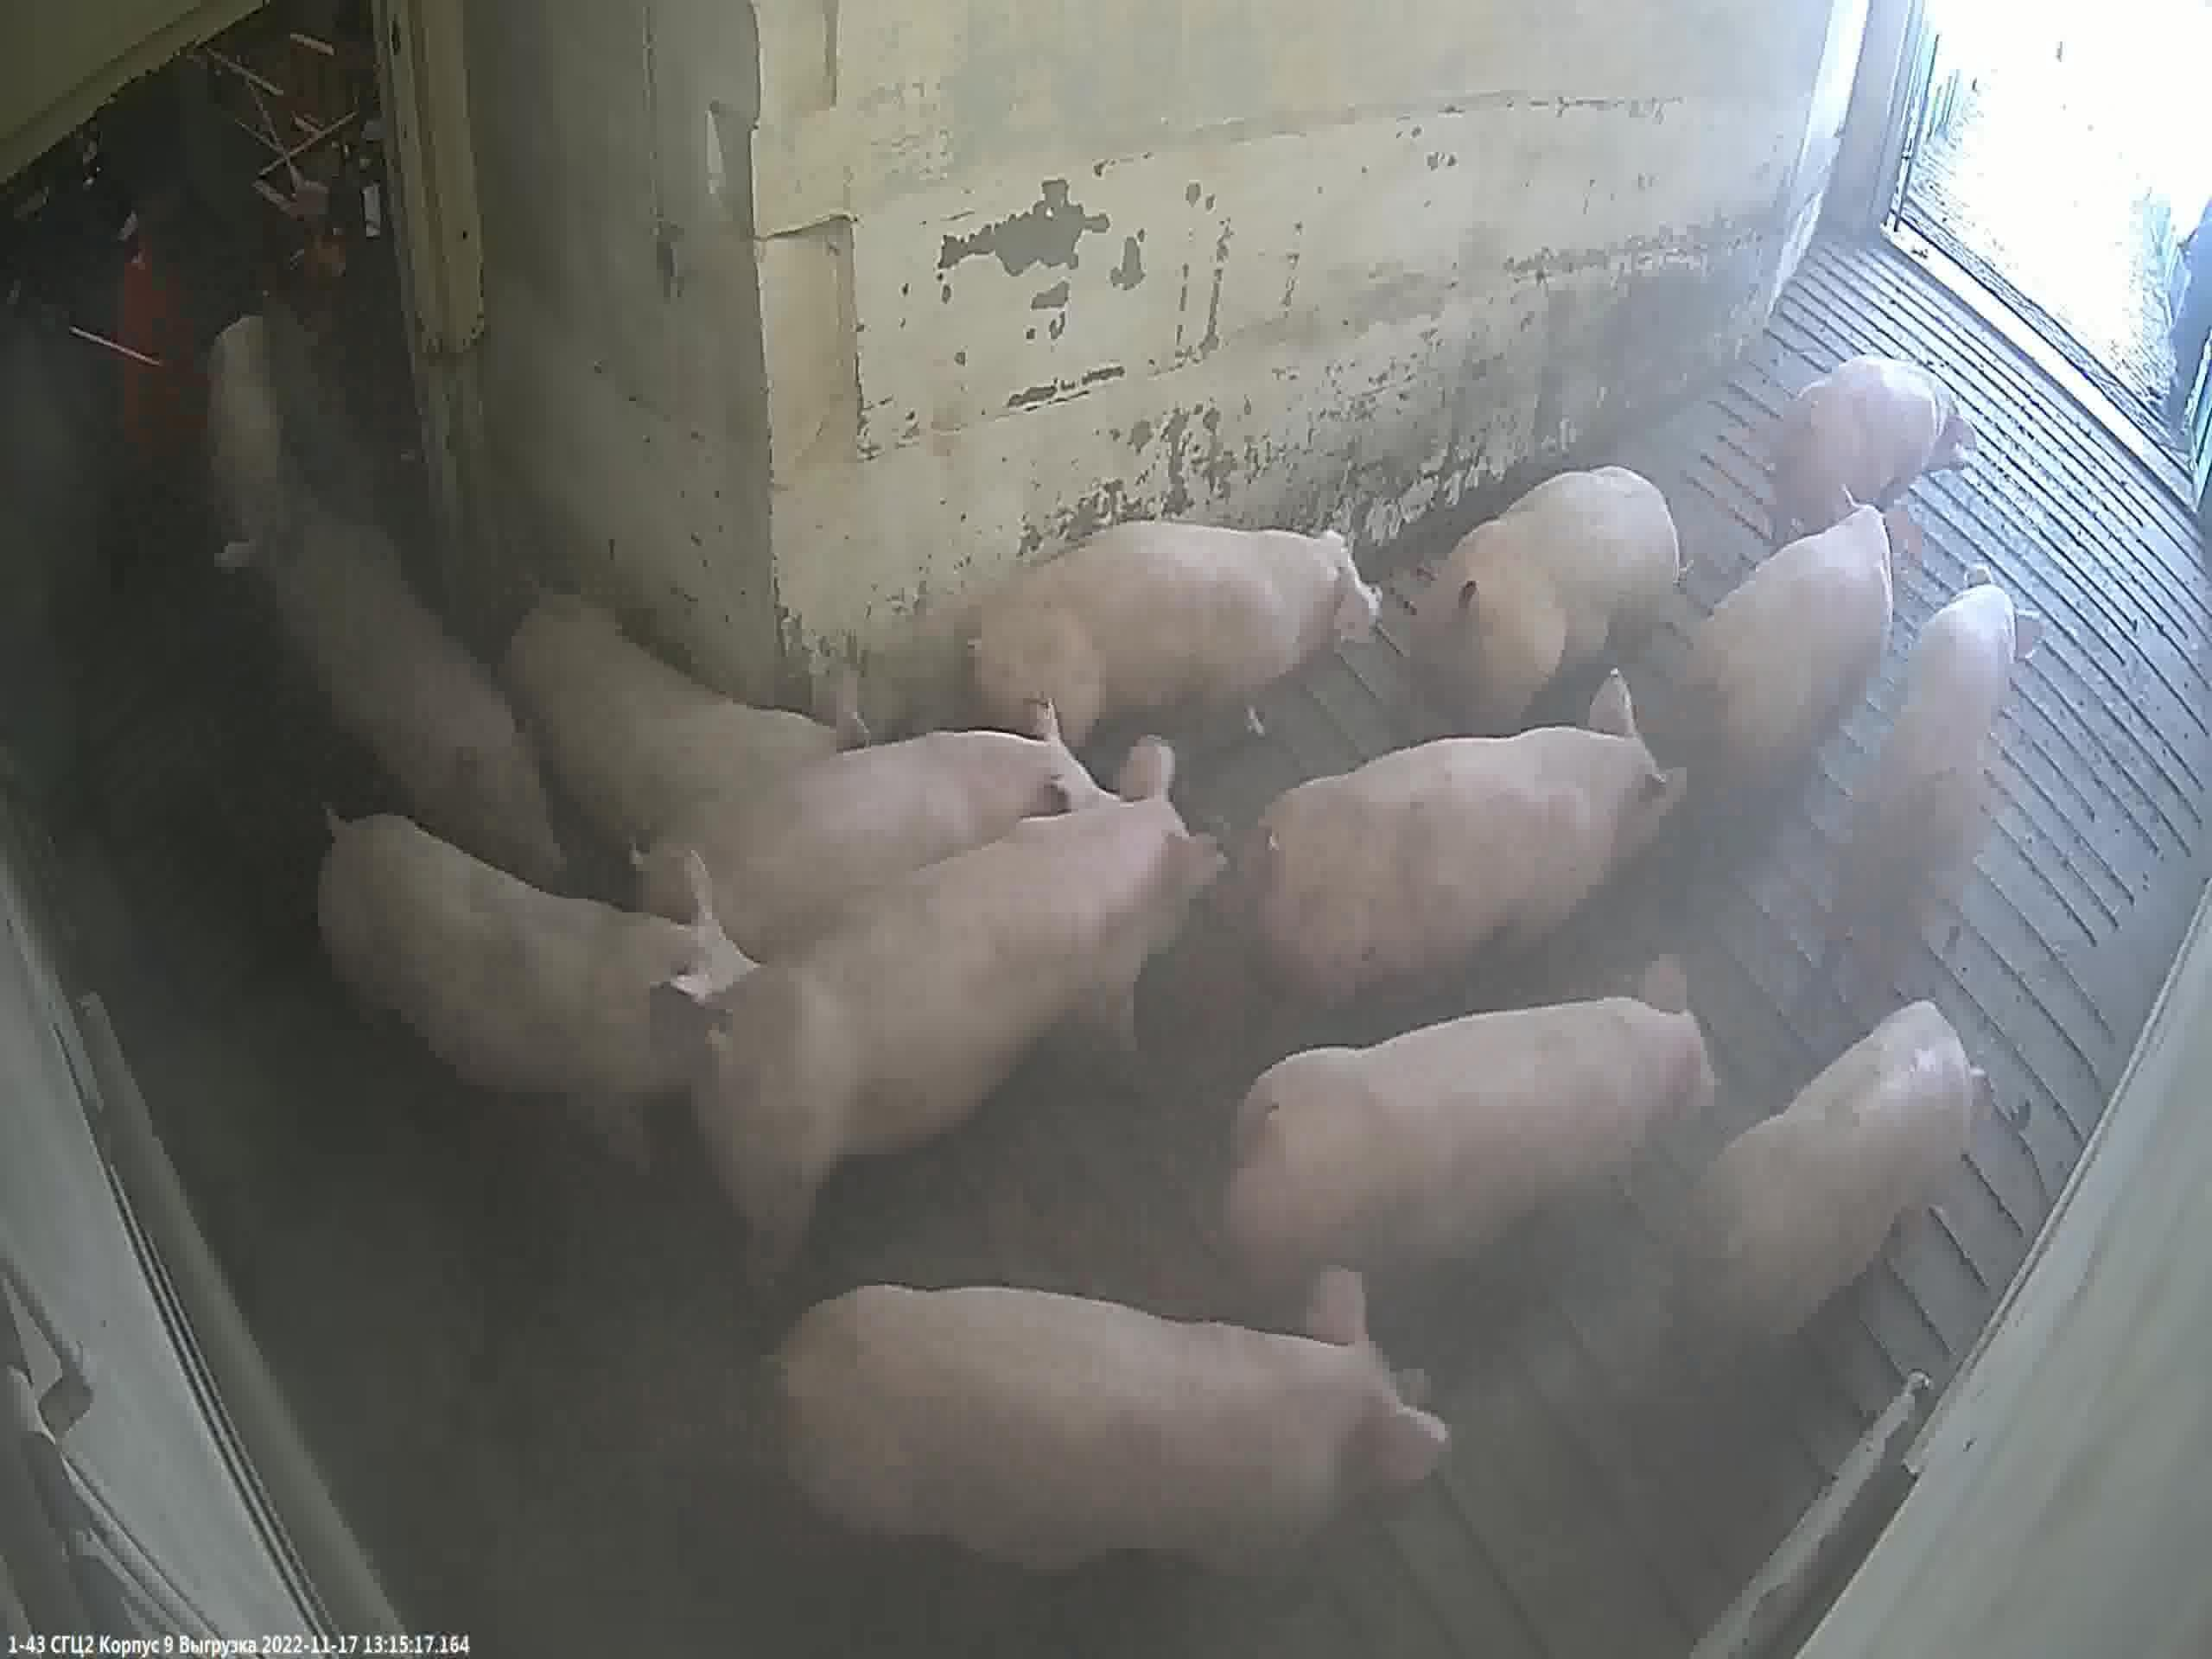Pigs: (693, 735, 1228, 1274), (772, 1263, 1449, 1584), (1221, 953, 1716, 1283), (319, 807, 761, 1161), (1245, 667, 1688, 1014), (641, 694, 1109, 965), (1674, 1007, 1987, 1380), (260, 525, 578, 889), (979, 523, 1379, 748), (510, 605, 869, 854), (1714, 484, 1923, 814), (1426, 465, 1679, 730), (1853, 565, 2033, 936), (1784, 364, 1982, 537), (204, 312, 298, 575)
